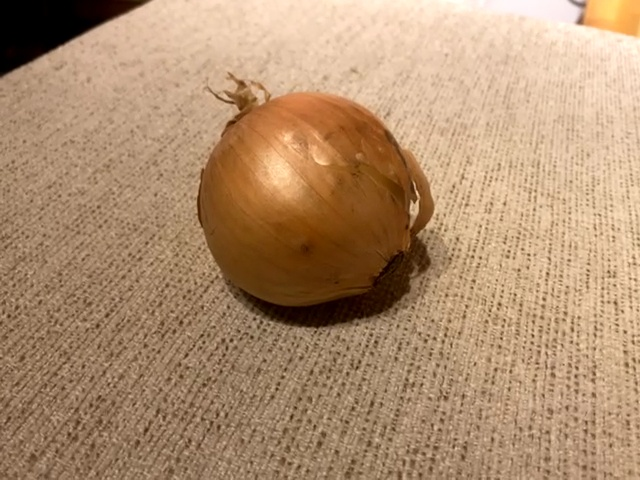onion: (195, 71, 433, 320)
